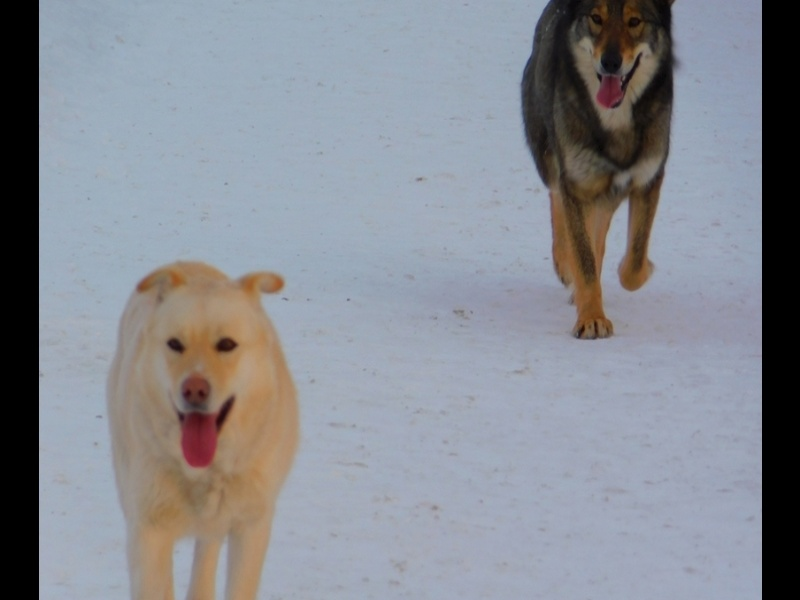dog: (97, 256, 317, 600), (514, 1, 672, 348)
